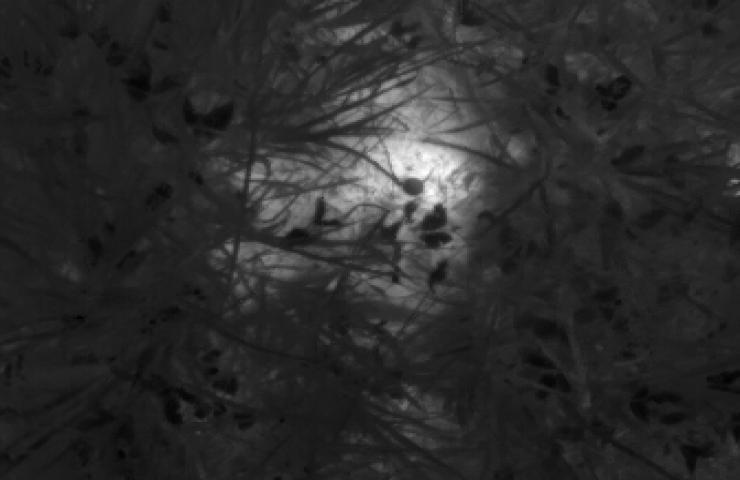landmines: (203, 55, 513, 328)
